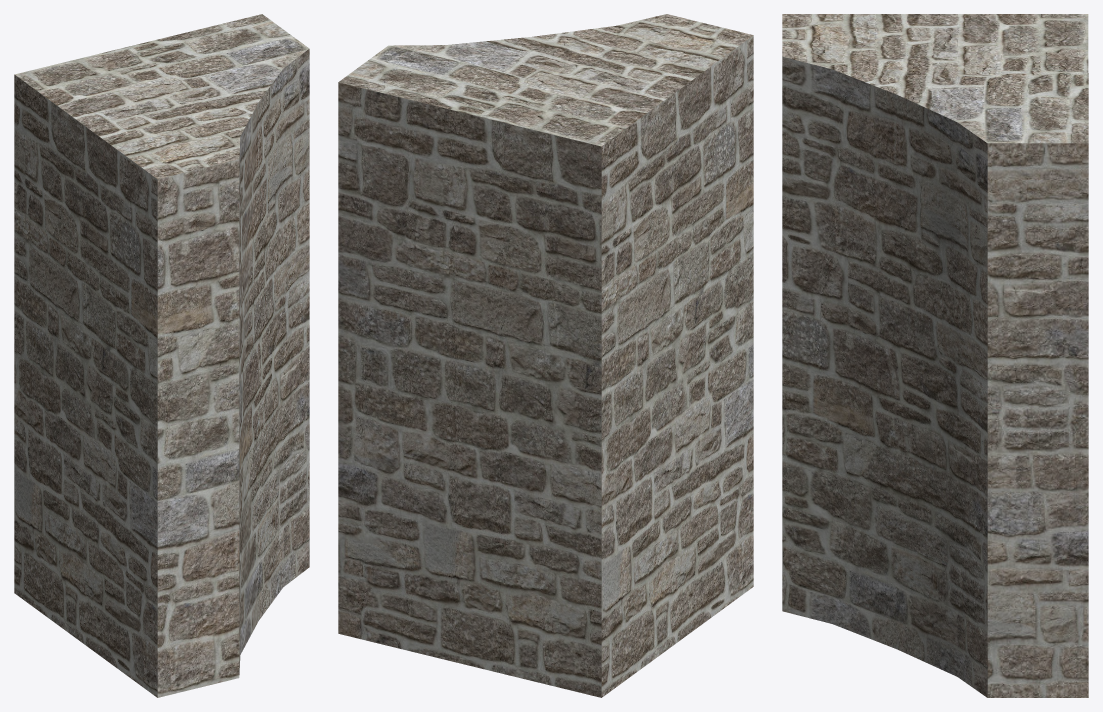
Rendered from wall_curved_big_in.obj.
The picture shows the model from 3 angles, left to right: view 1: azimuth 30°, elevation 25°; view 2: azimuth 150°, elevation 25°; view 3: azimuth 270°, elevation 25°; orthographic projection. The views are drawn at different scales.
Bounding box in the file's own units: 1 × 2 × 1.
